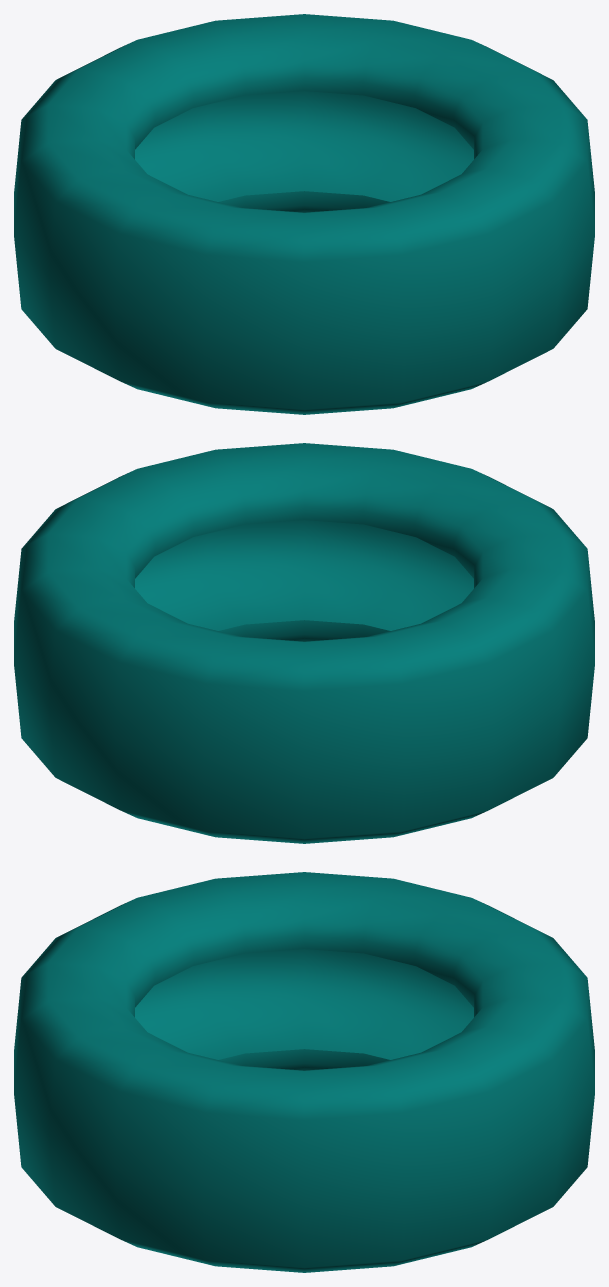
The model's file is mesh_Tyre_v2.fbx.
The picture shows the model from 3 angles, top to bottom: view 1: azimuth 30°, elevation 25°; view 2: azimuth 150°, elevation 25°; view 3: azimuth 270°, elevation 25°; orthographic projection.
Visible parts, largest first — view 1: mesh_Tyre_v2_0; view 2: mesh_Tyre_v2_0; view 3: mesh_Tyre_v2_0.
Boxes of the visible parts, x1,y1,x2,y2 form: mesh_Tyre_v2_0: [14, 14, 594, 414]; mesh_Tyre_v2_0: [14, 443, 594, 843]; mesh_Tyre_v2_0: [14, 872, 594, 1272].
Bounding box in the file's own units: 70.49 × 23.88 × 69.42.
